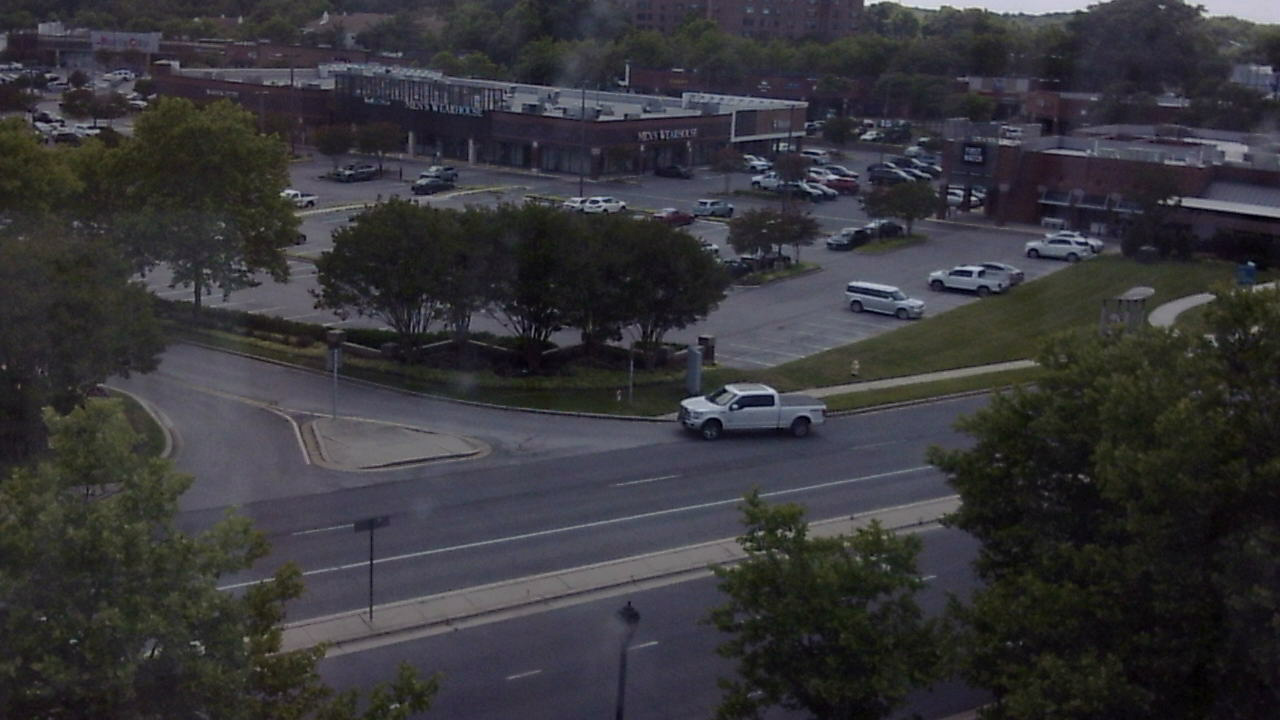Truck: (676, 382, 844, 452)
